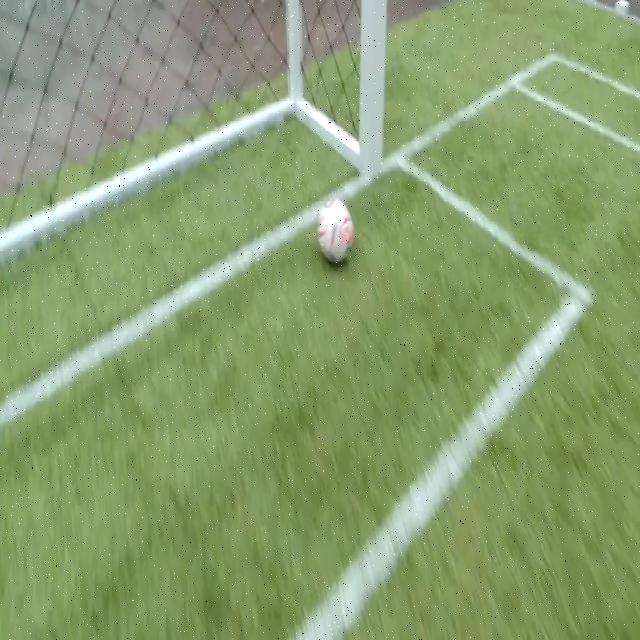ball: (318, 196, 354, 264)
goalpost: (350, 99, 390, 192)
